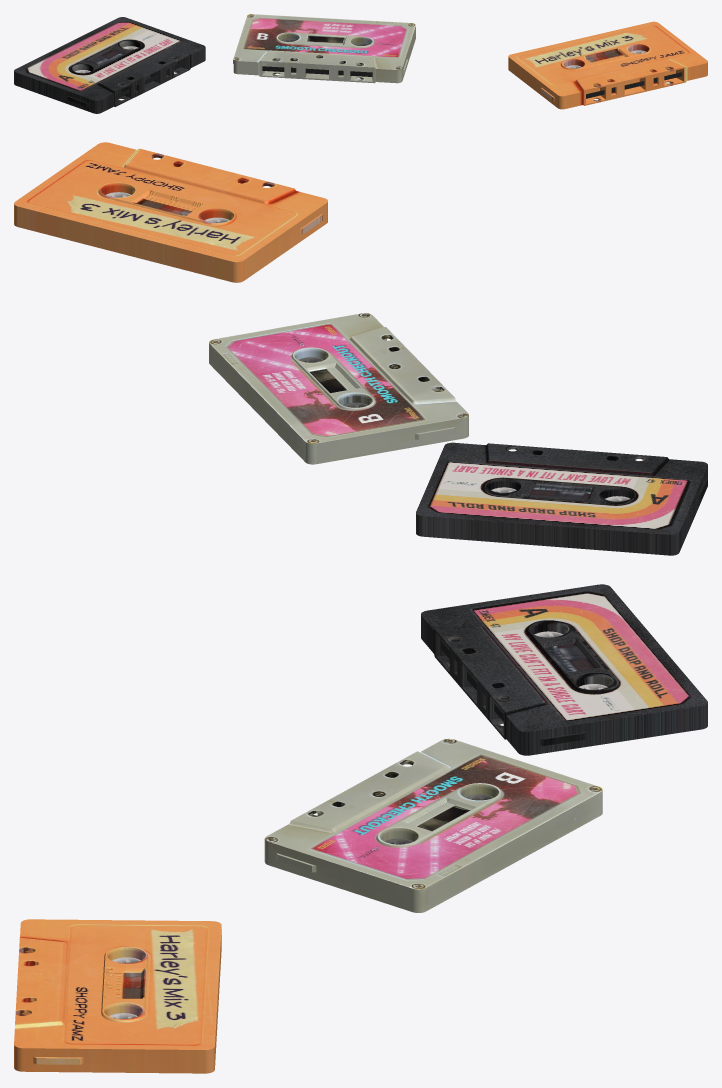
Rendered from cassettes.glb.
3 renders of one model, top to bottom at view 1: azimuth 30°, elevation 25°; view 2: azimuth 150°, elevation 25°; view 3: azimuth 270°, elevation 25°, orthographic. The views are drawn at different scales.
Parts seen in each view (by area): view 1: cassette 000, cassette 002, cassette 001; view 2: cassette 000, cassette 002, cassette 001; view 3: cassette 001, cassette 002, cassette 000.
Boxes of the visible parts, x1,y1,x2,y2 form: cassette 000: (508, 21, 707, 109); cassette 002: (14, 17, 205, 113); cassette 001: (233, 14, 415, 83); cassette 000: (14, 142, 327, 282); cassette 002: (416, 442, 707, 555); cassette 001: (209, 313, 468, 464); cassette 001: (264, 738, 602, 912); cassette 002: (421, 584, 707, 755); cassette 000: (14, 919, 221, 1073).
Bounding box in the file's own units: 0.3611 × 0.0102 × 0.2274.
Materials: 1 (1 with a texture image).
